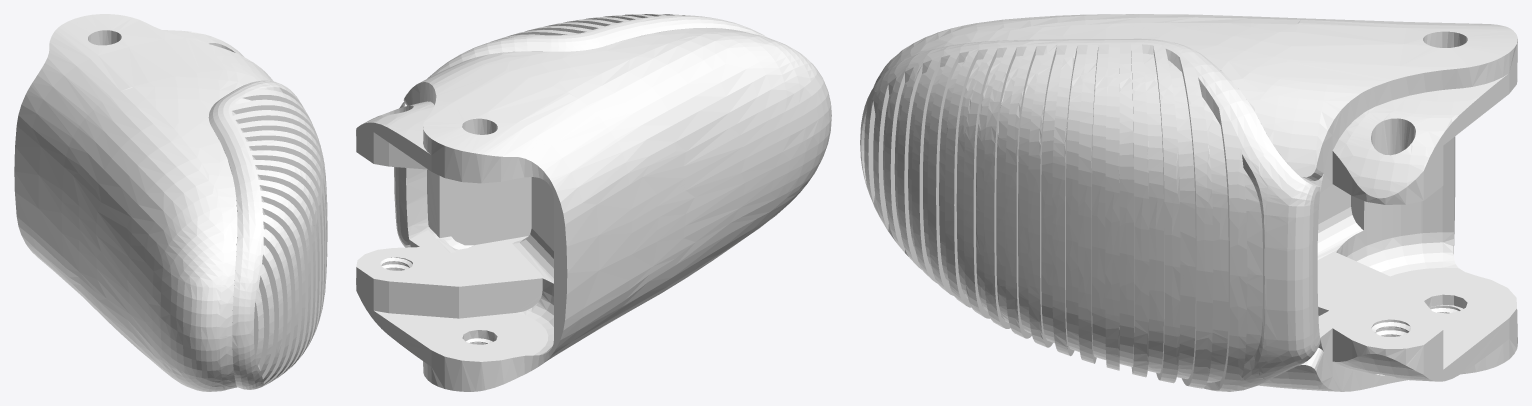
The model's file is rh_pinky_distal_vis.obj.
The picture shows the model from 3 angles, left to right: view 1: azimuth 30°, elevation 25°; view 2: azimuth 150°, elevation 25°; view 3: azimuth 270°, elevation 25°; orthographic projection. The views are drawn at different scales.
Parts seen in each view (by area): view 1: rh_pinky_distal; view 2: rh_pinky_distal; view 3: rh_pinky_distal.
Part boxes in pixels (x1,y1,x2,y2): rh_pinky_distal: [14, 14, 327, 391]; rh_pinky_distal: [356, 14, 831, 391]; rh_pinky_distal: [860, 14, 1517, 391].
Bounding box in the file's own units: 0.0182 × 0.0157 × 0.0295.
1 material, 1 textured.
